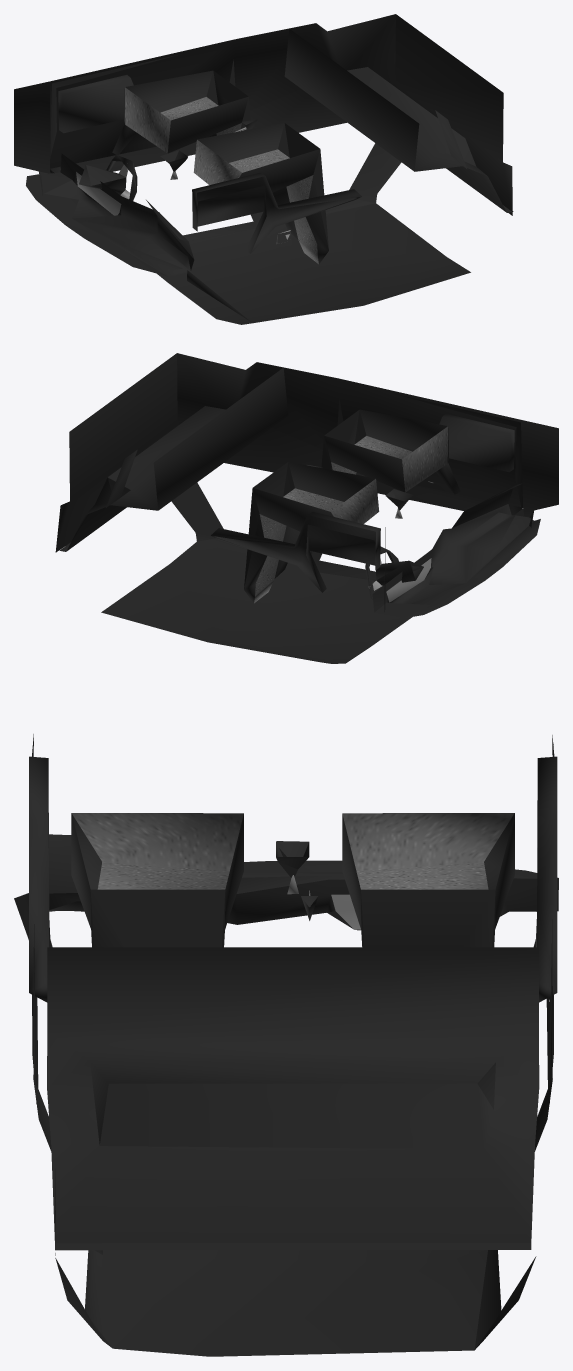
File: M3_interior_d2.obj
3 views of the same model, one above another, from view 1: azimuth 30°, elevation 25°; view 2: azimuth 150°, elevation 25°; view 3: azimuth 270°, elevation 25° (orthographic). The views are drawn at different scales.
Parts seen in each view (by area): view 1: M3_interior; view 2: M3_interior; view 3: M3_interior.
Boxes of the visible parts, bbox=[...] form: M3_interior: bbox=[14, 14, 513, 324]; M3_interior: bbox=[55, 353, 558, 663]; M3_interior: bbox=[14, 734, 558, 1356].
Bounding box in the file's own units: 2.59 × 1.07 × 1.48.
Materials: 1 (1 with a texture image).
